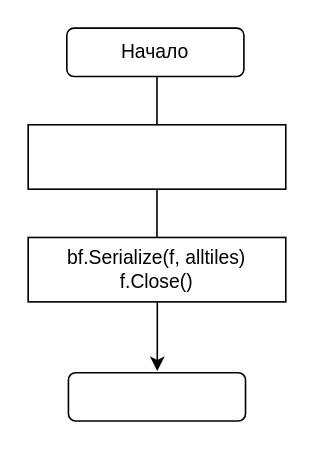
This 314x449 diagram has some shape labels left out. The shapes that lost their labels are listed below. From the top down, each one's box as (x1, y1, x2, y2) in pixels, then its label:
(27, 123, 286, 189): bf = new BinaryFormatter() f = File.OpenWrite(fname)
(67, 371, 246, 421): Конец
